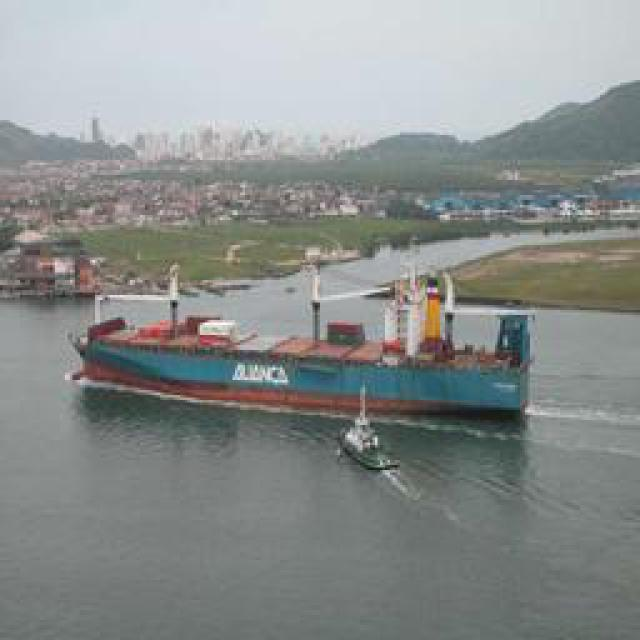Ship: (68, 276, 536, 424)
